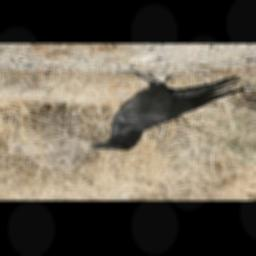Crow: (89, 71, 246, 151)
